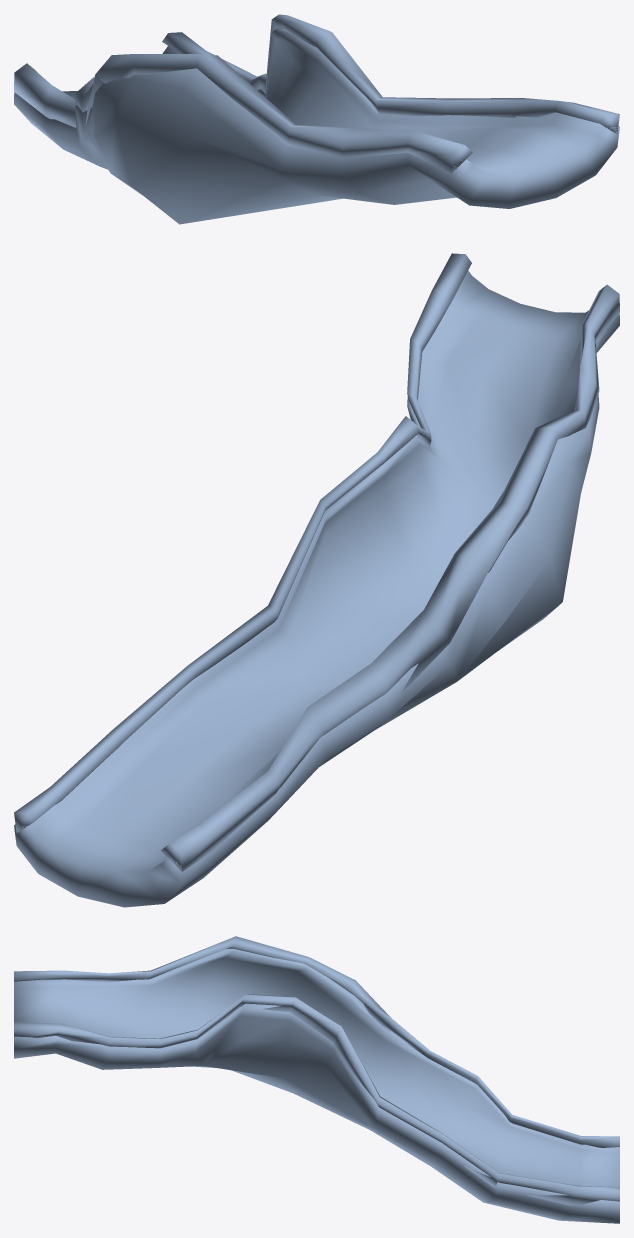
Rendered from junRoadLongCurveSlope10.fbx.
3 views of the same model, one above another, from view 1: azimuth 30°, elevation 25°; view 2: azimuth 150°, elevation 25°; view 3: azimuth 270°, elevation 25° (orthographic). The views are drawn at different scales.
Parts seen in each view (by area): view 1: roadLongCurveSlope10_LOD0, roadLongCurveSlope10_edge_LOD0; view 2: roadLongCurveSlope10_LOD0, roadLongCurveSlope10_edge_LOD0; view 3: roadLongCurveSlope10_LOD0, roadLongCurveSlope10_edge_LOD0.
Part boxes in pixels (box(x1,y1,x2,y2)): roadLongCurveSlope10_LOD0: box(14, 28, 619, 224); roadLongCurveSlope10_edge_LOD0: box(14, 14, 619, 173); roadLongCurveSlope10_LOD0: box(14, 270, 619, 907); roadLongCurveSlope10_edge_LOD0: box(14, 253, 619, 871); roadLongCurveSlope10_LOD0: box(14, 948, 619, 1223); roadLongCurveSlope10_edge_LOD0: box(14, 936, 619, 1205).
Size of the model in its own units: 1741 by 1756 by 4378.
